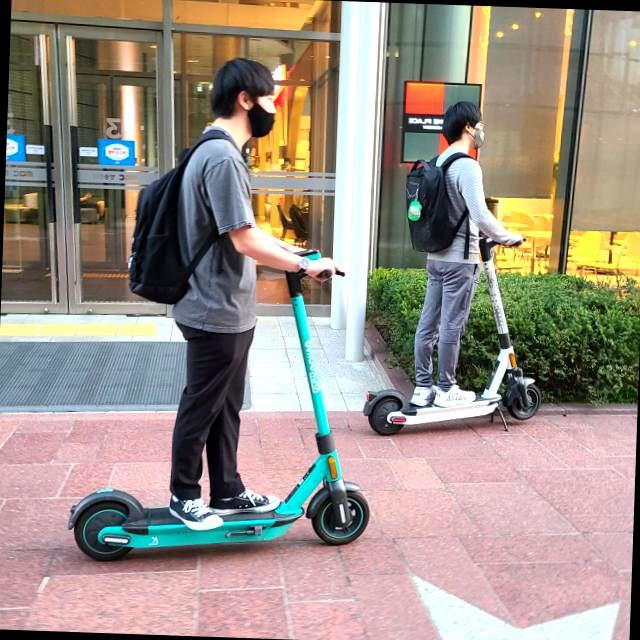bare_head: (210, 51, 301, 158), (437, 93, 505, 153)
human: (129, 33, 285, 517), (402, 70, 477, 398)
kickboard: (64, 463, 452, 602), (361, 373, 591, 441)
